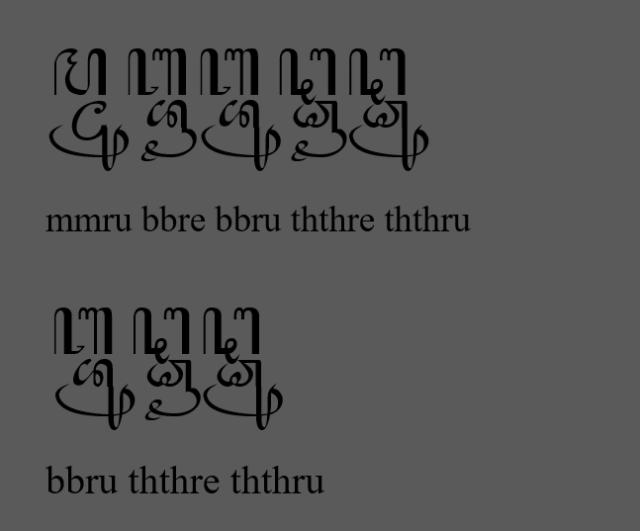_bre: (140, 99, 198, 162)
_bru: (200, 98, 282, 172), (54, 357, 136, 431)
_mru: (49, 100, 130, 172)
_thre: (290, 99, 348, 163), (144, 358, 200, 422)
_thru: (202, 359, 284, 431), (348, 100, 429, 172)
b: (200, 46, 260, 98), (126, 47, 188, 97), (53, 306, 114, 356)
m: (52, 47, 108, 97)
th: (277, 46, 337, 106), (348, 47, 408, 106), (132, 306, 190, 366), (202, 307, 262, 365)
